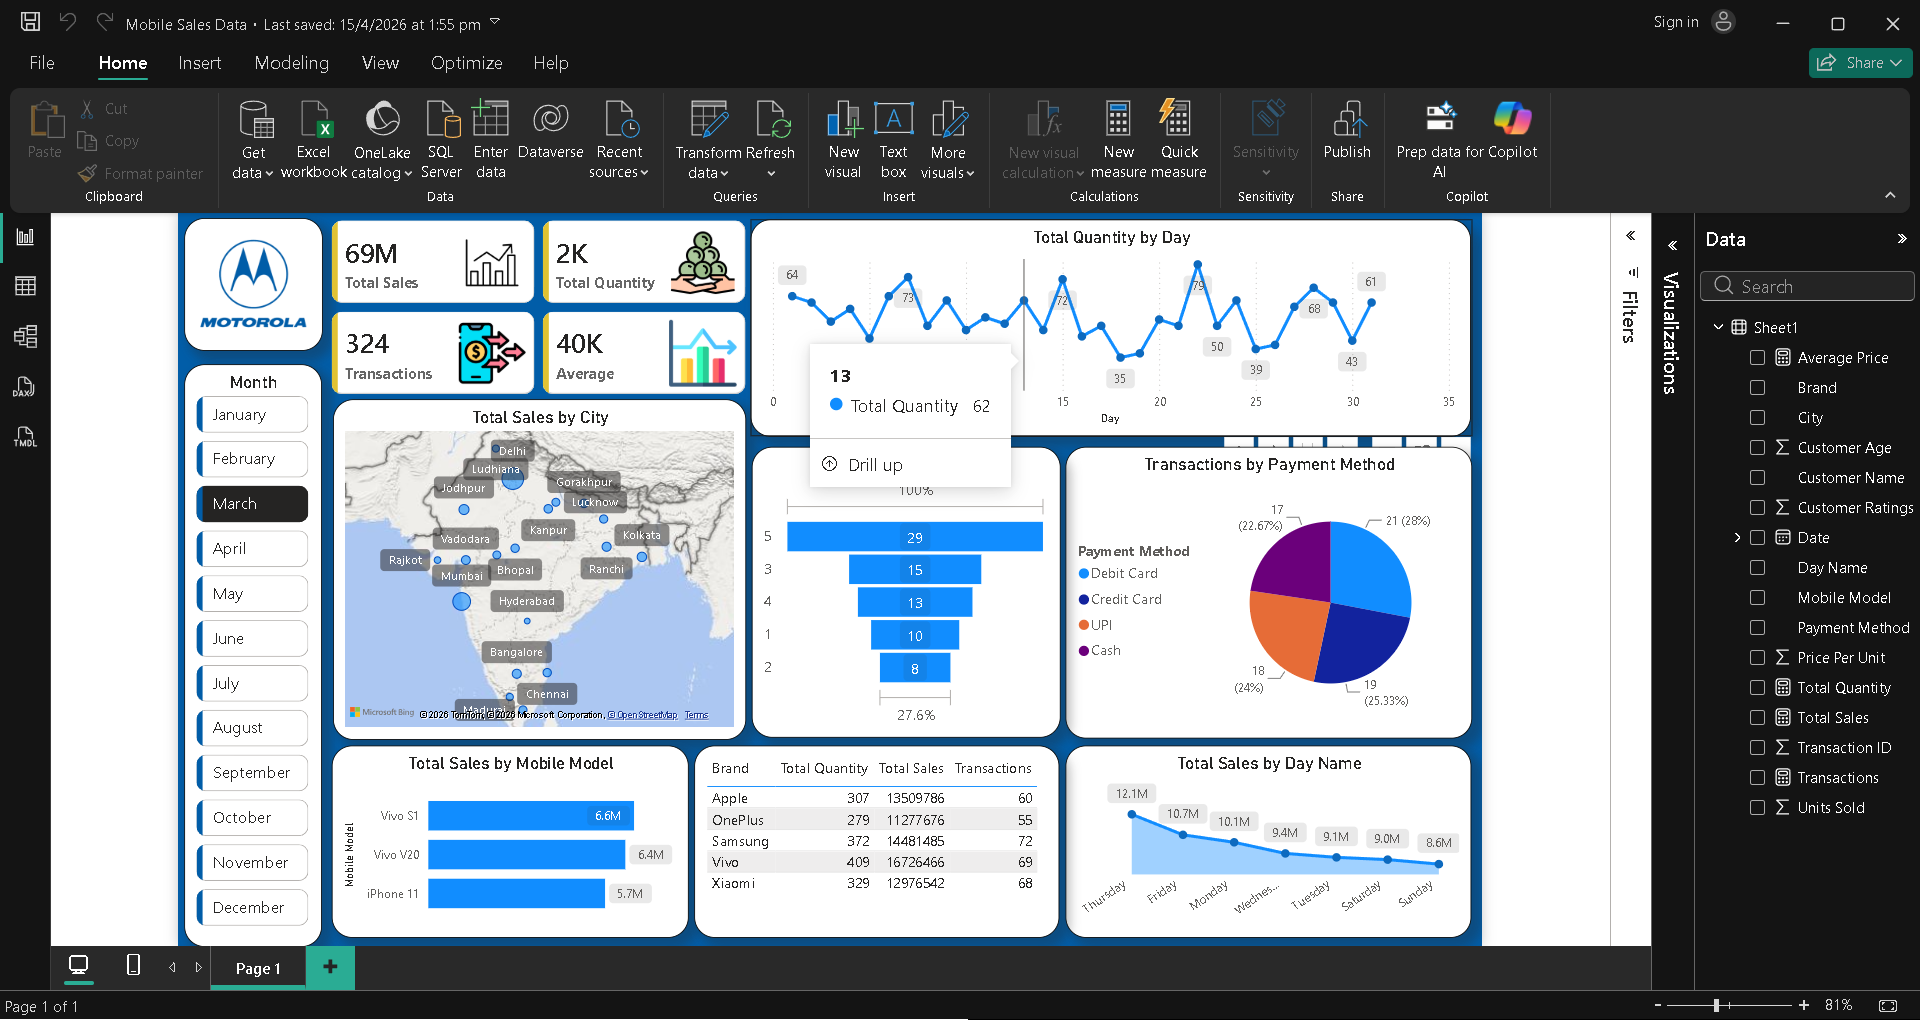

This screenshot's page, from the dashboard's own definition file:
{"tool":"powerbi","page":{"name":"Page 1","canvas":[1280,720],"ordinal":0},"visuals":[{"type":"shape","box":[6.2,5,136.2,130],"z":0},{"type":"image","box":[17.5,17.5,113.8,103.8],"z":1000},{"type":"advancedSlicerVisual","fields":{"Values":["Sheet1.Date.Variation.Date Hierarchy.Month"]},"box":[6.1,148.5,135,571.8],"z":2000},{"type":"cardVisual","fields":{"Data":["Sheet1.Total Sales","Sheet1.Total Quantity","Sheet1.Transactions","Sheet1.Average Price"]},"box":[146.2,2.5,416.2,180],"z":3000},{"type":"map","fields":{"Category":["Sheet1.City"],"Size":["Sheet1.Total Sales"]},"box":[151.7,182.5,405.8,334.2],"z":4000},{"type":"lineChart","fields":{"Category":["Sheet1.Date.Variation.Date Hierarchy.Month","Sheet1.Date.Variation.Date Hierarchy.Day"],"Y":["Sheet1.Total Quantity"]},"box":[562.5,6.2,707.5,213.8],"z":5000},{"type":"clusteredBarChart","fields":{"Category":["Sheet1.Mobile Model"],"Y":["Sheet1.Total Sales"]},"box":[151.4,522.9,350.7,188.6],"z":6000},{"type":"pieChart","fields":{"Category":["Sheet1.Payment Method"],"Y":["Sheet1.Transactions"]},"box":[870.8,230,399.2,286.7],"z":7000},{"type":"funnel","title":"Customer Ratings","fields":{"Category":["Sheet1.Customer Ratings"],"Y":["CountNonNull(Sheet1.Customer Ratings)"]},"box":[562.9,230,302.9,285.7],"z":8000},{"type":"areaChart","fields":{"Category":["Sheet1.Day Name"],"Y":["Sheet1.Total Sales"]},"box":[871.4,522.9,398.6,188.6],"z":9000},{"type":"tableEx","fields":{"Values":["Sheet1.Brand","Sheet1.Total Quantity","Sheet1.Total Sales","Sheet1.Transactions"]},"box":[507.1,522.9,358.6,188.6],"z":10000}]}

Visuals, with their boxes on the page's 1280x720 design canvas (x1, y1, x2, y2). These are canvas units, not pixel positions in the 1920x1020 screenshot, which may show the page scaled, cropped or inside an application window:
shape: select_region(6, 5, 142, 135)
image: select_region(18, 18, 131, 121)
advancedSlicerVisual - Sheet1.Date.Variation.Date Hierarchy.Month: select_region(6, 148, 141, 720)
cardVisual - Sheet1.Total Sales x Sheet1.Total Quantity: select_region(146, 2, 562, 182)
map - Sheet1.City x Sheet1.Total Sales: select_region(152, 182, 558, 517)
lineChart - Sheet1.Date.Variation.Date Hierarchy.Month x Sheet1.Date.Variation.Date Hierarchy.Day: select_region(562, 6, 1270, 220)
clusteredBarChart - Sheet1.Mobile Model x Sheet1.Total Sales: select_region(151, 523, 502, 712)
pieChart - Sheet1.Payment Method x Sheet1.Transactions: select_region(871, 230, 1270, 517)
"Customer Ratings" funnel: select_region(563, 230, 866, 516)
areaChart - Sheet1.Day Name x Sheet1.Total Sales: select_region(871, 523, 1270, 712)
tableEx - Sheet1.Brand x Sheet1.Total Quantity: select_region(507, 523, 866, 712)
